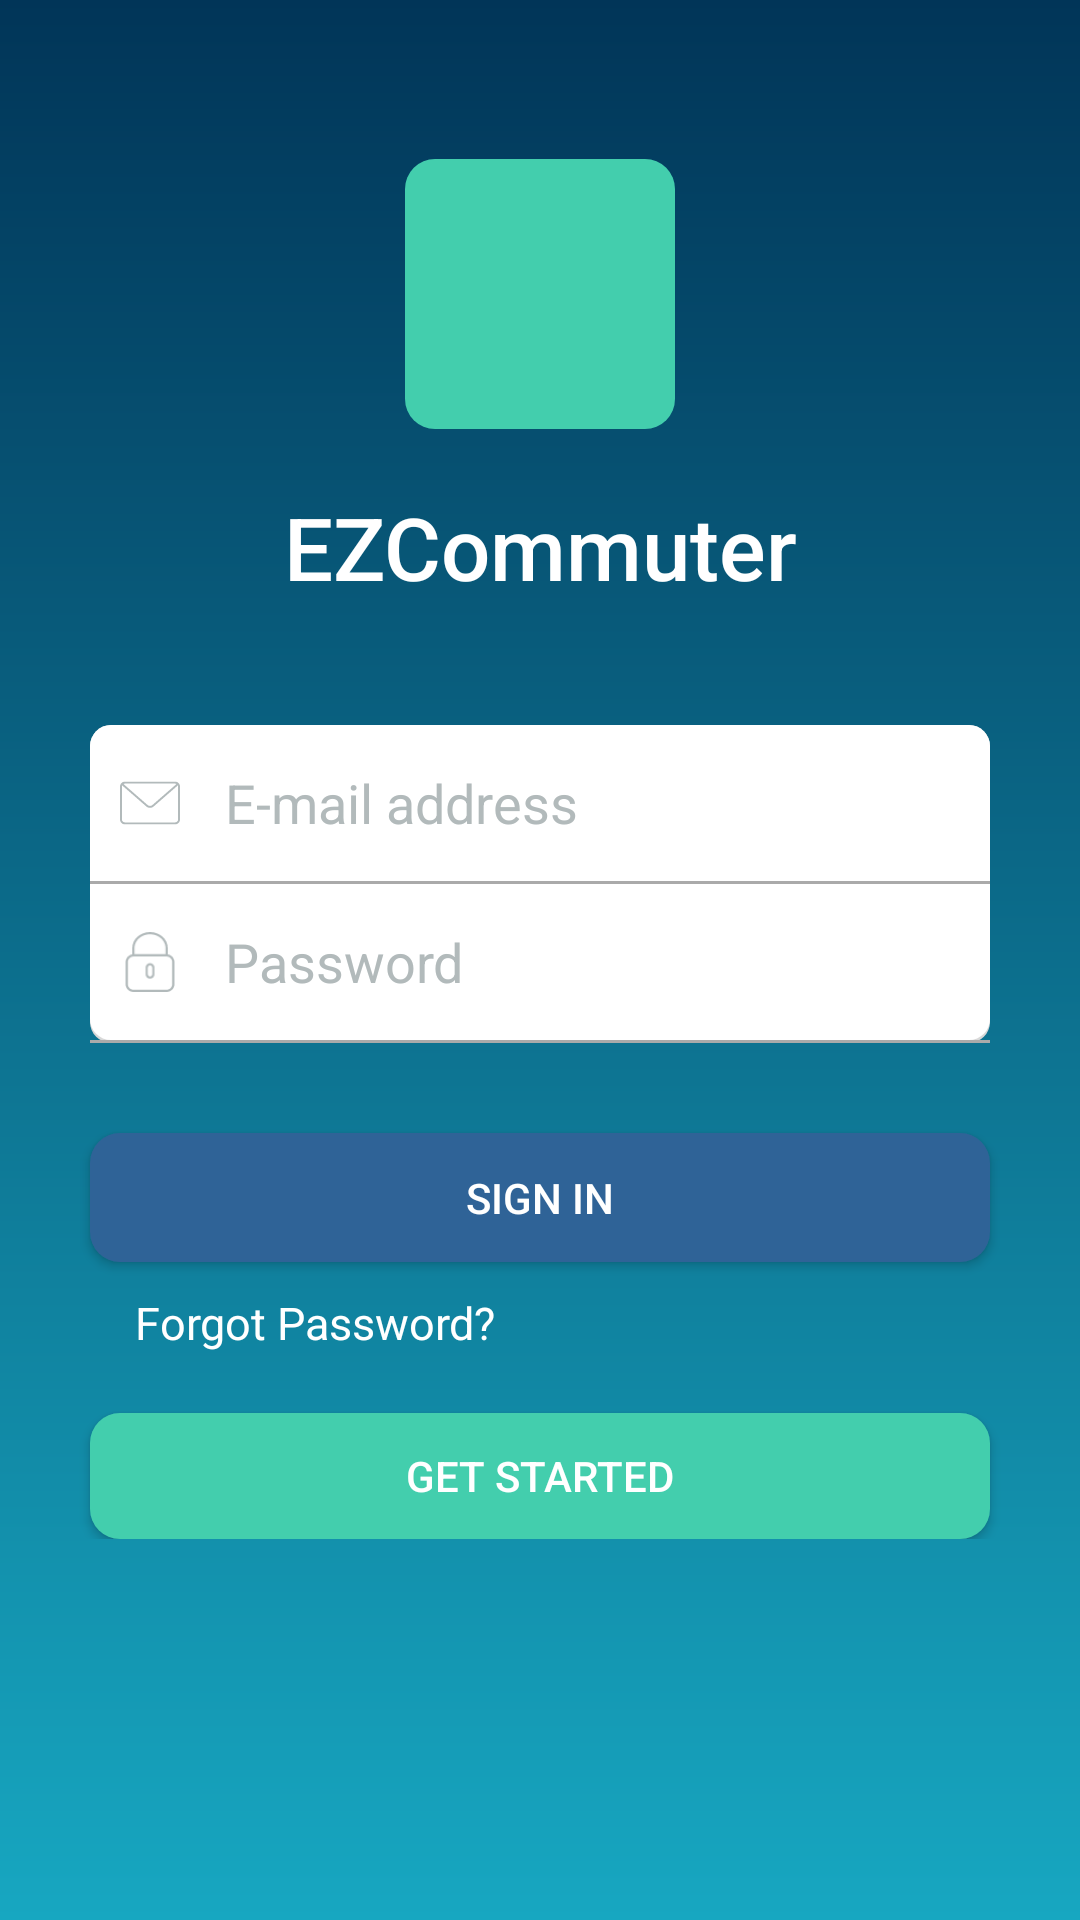

Screen size 1080w x 1920h. Icon name, then its center in pixels as [x,y]:
locked: [150,962]
